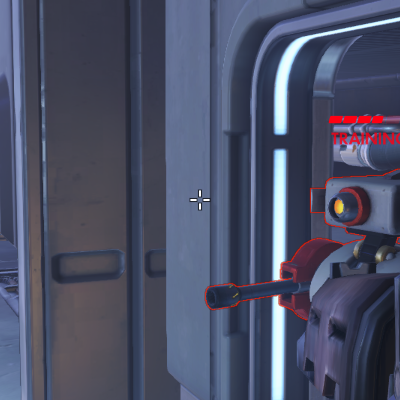hpbar: (328, 115, 400, 124)
